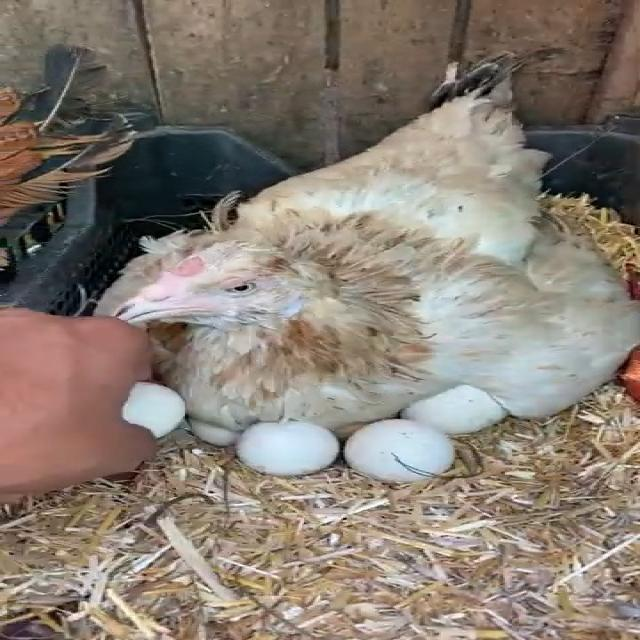crouch chicken: (57, 74, 633, 478)
